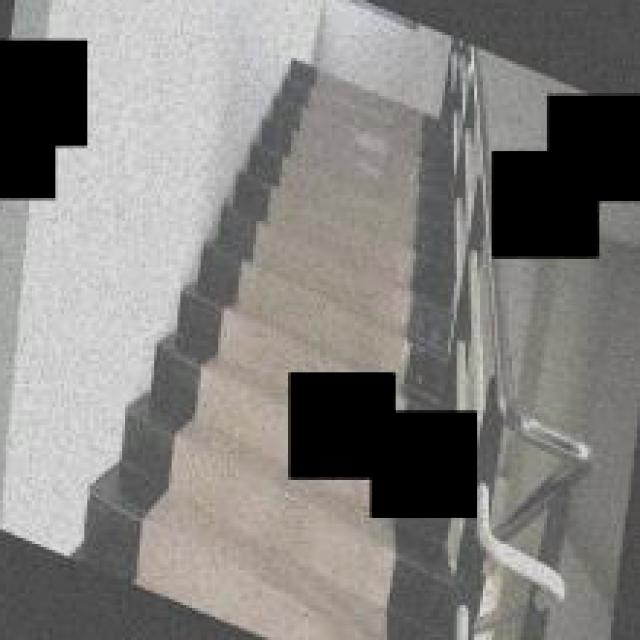upstair: (280, 45, 452, 353)
